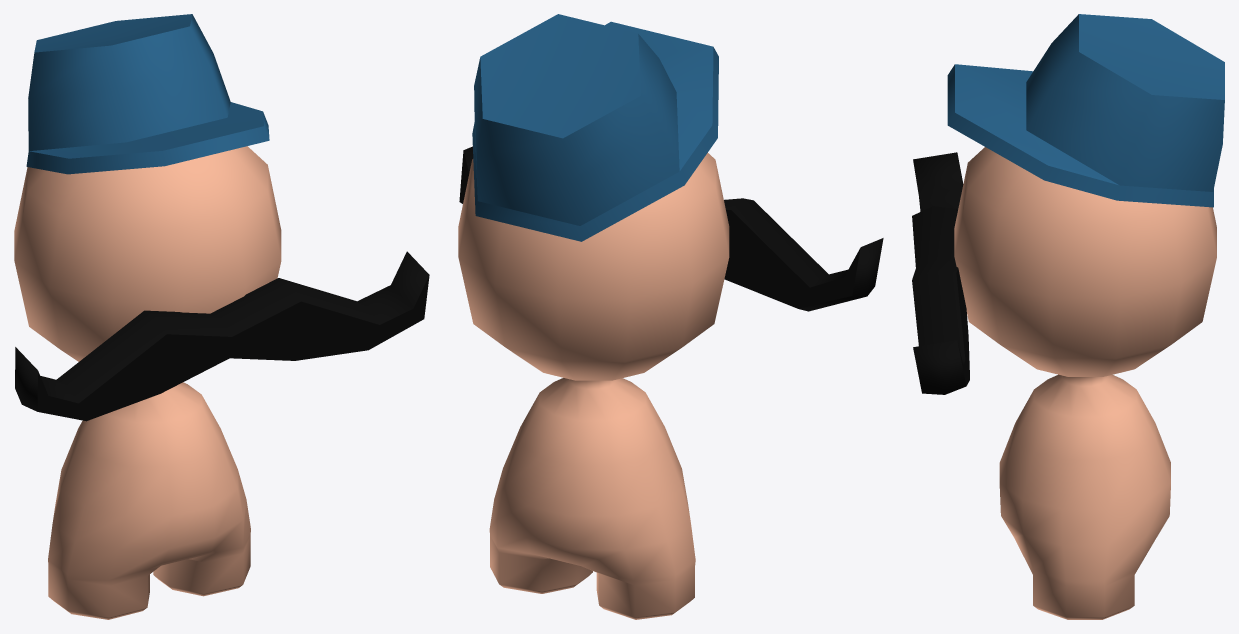
Rendered from Player Character.FBX.
3 renders of one model, left to right at view 1: azimuth 30°, elevation 25°; view 2: azimuth 150°, elevation 25°; view 3: azimuth 270°, elevation 25°, orthographic. The views are drawn at different scales.
Parts seen in each view (by area): view 1: Sphere003; view 2: Sphere003; view 3: Sphere003.
Boxes of the visible parts, x1=… form: Sphere003: x1=14, y1=14, x2=429, y2=619; Sphere003: x1=458, y1=14, x2=883, y2=619; Sphere003: x1=912, y1=14, x2=1224, y2=619.
Bounding box in the file's own units: 7.24 × 9.72 × 5.06.
